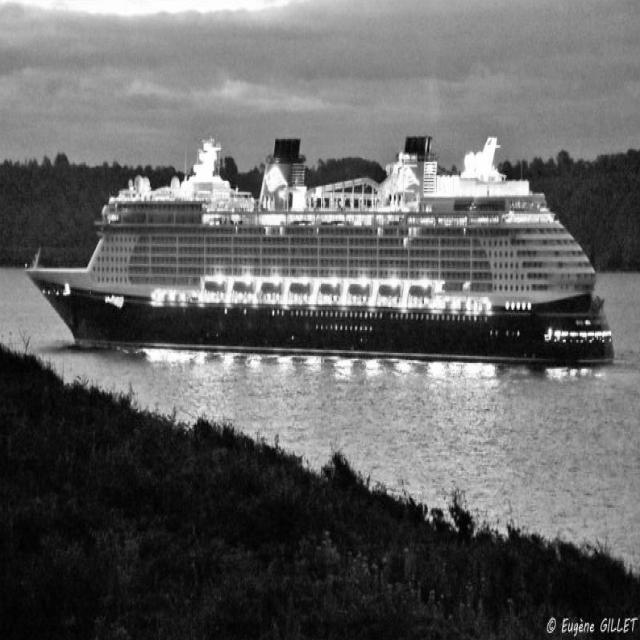cruises: (18, 135, 622, 384)
